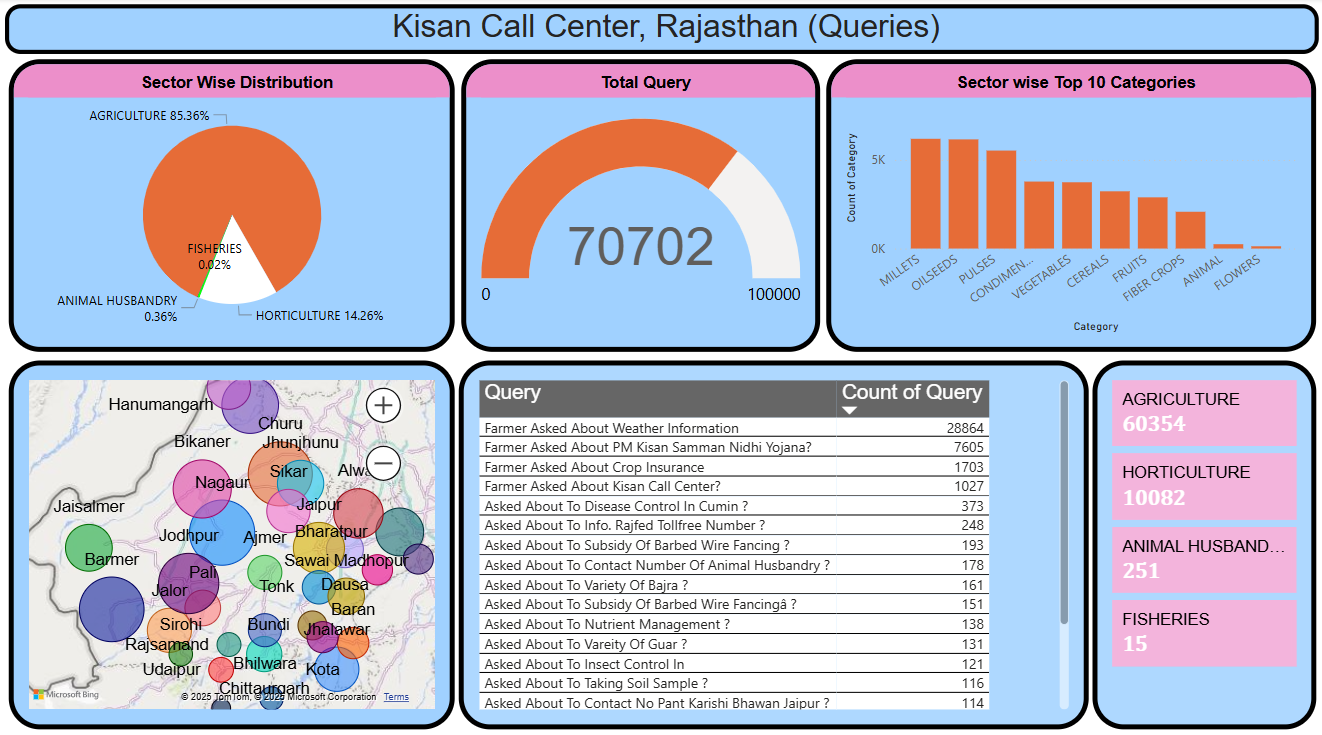

This screenshot's page, from the dashboard's own definition file:
{"tool":"powerbi","page":{"name":"Dashboard","canvas":[1280,720],"ordinal":0},"visuals":[{"type":"map","title":"District Wise Query","fields":{"Size":["CountNonNull(Cleaned.District)"],"Category":["Location (2).District"],"Series":["Location (2).District"],"Y":["Avg(Location (2).Latitude)"],"X":["Avg(Location (2).Longitude)"]},"box":[8.4,346.2,430.7,359.5],"z":0},{"type":"clusteredColumnChart","title":"Top 10 Category Wise Query","fields":{"Category":["Table1_15.Category"],"Y":["CountNonNull(Table1_15.Category)"]},"box":[8.4,51.9,422.3,289.5],"z":1000},{"type":"gauge","title":"Total Query","fields":{"Y":["CountNonNull(Table1_15.Category)"]},"box":[439.1,51.9,445.2,289.5],"z":2000},{"type":"card","title":"Top 1 Query","fields":{"Values":["Min(Cleaned.Query)"]},"box":[443.1,346.9,608.1,33.8],"z":3000},{"type":"tableEx","fields":{"Values":["Cleaned.Query","CountNonNull(Cleaned.Query)"]},"box":[443,383.6,608,322.1],"z":4000},{"type":"pieChart","title":"Sector Wise Distribution","fields":{"Category":["Table1_15.Sector"],"Y":["CountNonNull(Table1_15.Sector)"]},"box":[894,51.9,376.4,289.5],"z":5000},{"type":"multiRowCard","fields":{"Values":["CountNonNull(Table1_15.Sector)","Table1_15.Sector"]},"box":[1054.4,349.9,216,355.9],"z":6000},{"type":"textbox","title":"Kisan Call Center, Rajasthan (Queries)","box":[4.8,2.4,1268,48.3],"z":7000}]}

Visuals, with their boxes in screenshot pixels (x1, y1, x2, y2), scaled from the page's 1280x720 canvas onto the 1322x735 screenshot:
"District Wise Query" map: region(9, 353, 454, 720)
"Top 10 Category Wise Query" clusteredColumnChart: region(9, 53, 445, 349)
"Total Query" gauge: region(454, 53, 913, 349)
"Top 1 Query" card: region(458, 354, 1086, 389)
tableEx - Cleaned.Query x CountNonNull(Cleaned.Query): region(458, 392, 1085, 720)
"Sector Wise Distribution" pieChart: region(923, 53, 1312, 349)
multiRowCard - CountNonNull(Table1_15.Sector) x Table1_15.Sector: region(1089, 357, 1312, 721)
"Kisan Call Center, Rajasthan (Queries)" textbox: region(5, 2, 1315, 52)
